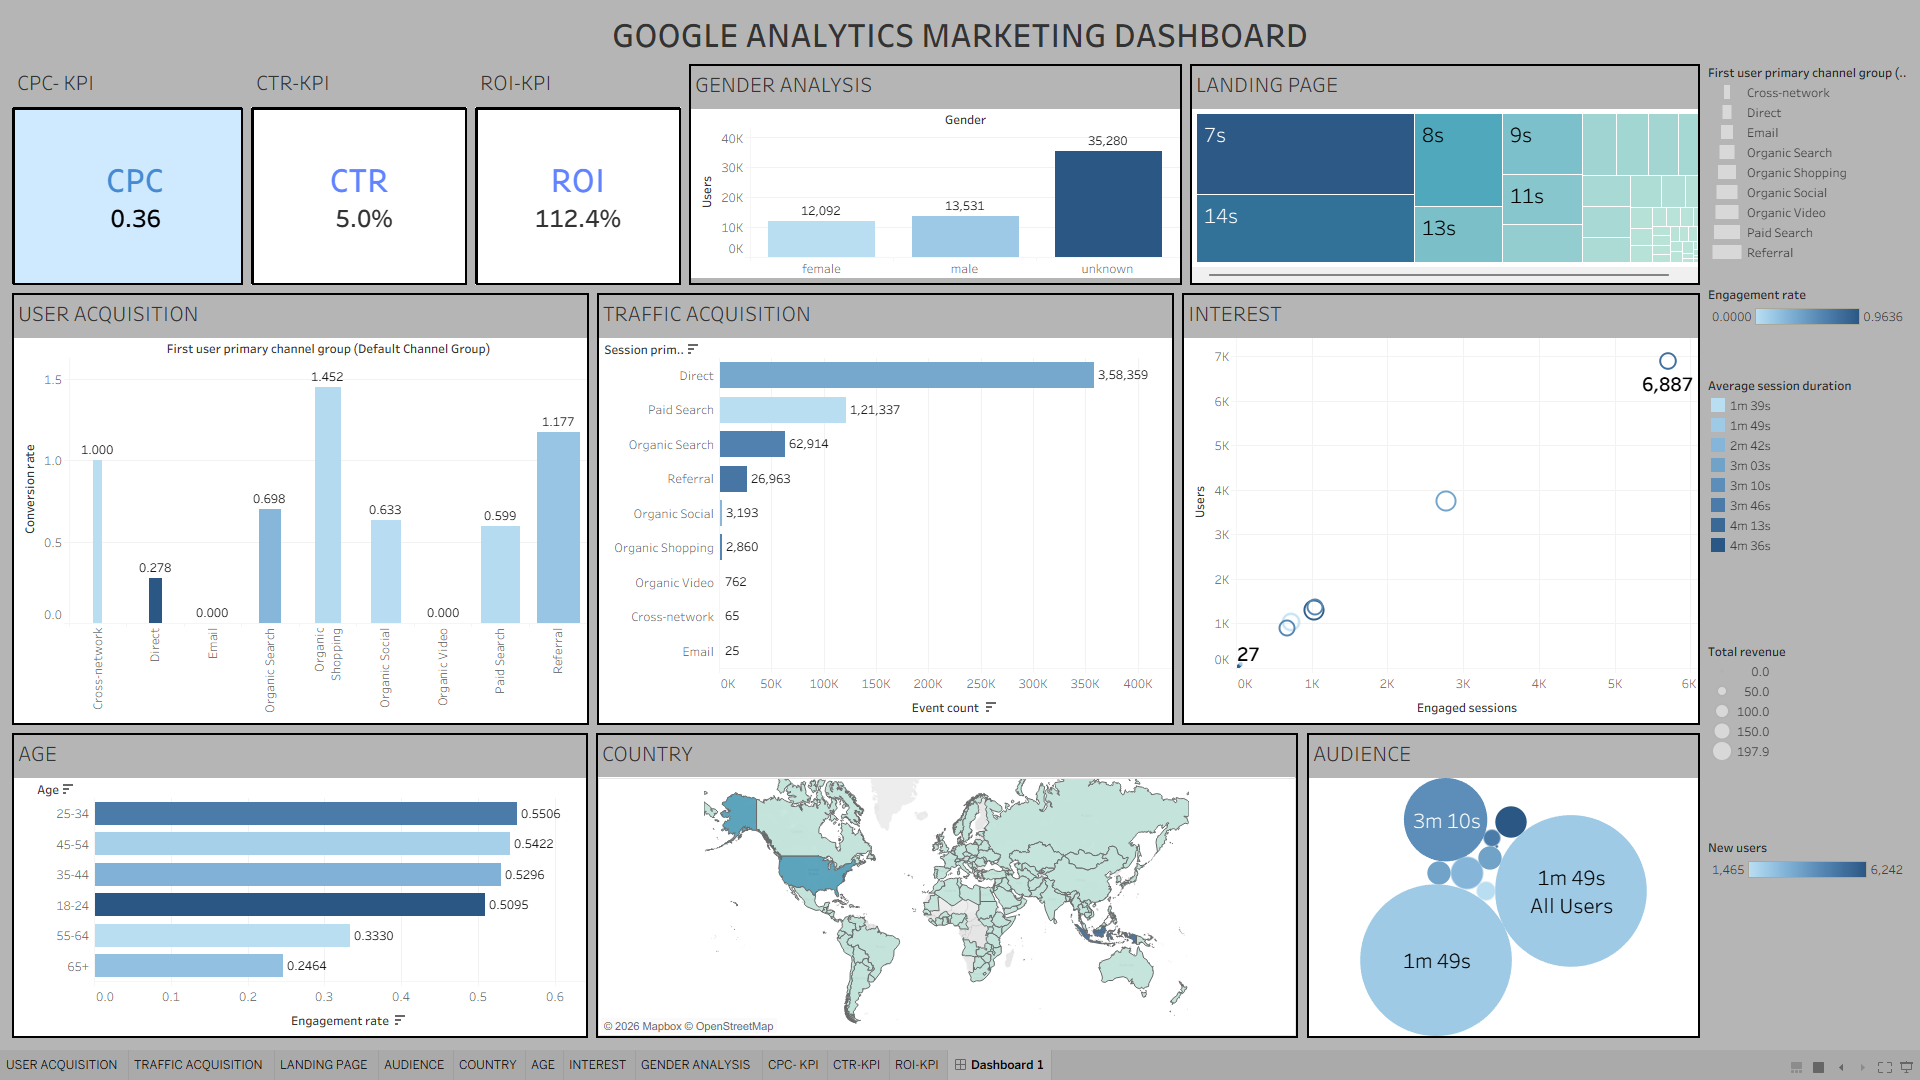

What the dashboard file says about the page in this screenshot:
{"tool":"tableau","page":{"name":"Dashboard 1","canvas":[1000,1000],"units":"permille","ordinal":0},"visuals":[{"type":"title","box":[4.7,8.9,990.6,58]},{"type":"worksheet","title":"CPC- KPI","mark":"Text","box":[4.7,67,122.6,215.4]},{"type":"worksheet","title":"CTR-KPI","mark":"Automatic","box":[127.3,67,114.9,215.4]},{"type":"worksheet","title":"ROI-KPI","mark":"Automatic","box":[242.1,67,109.5,215.4]},{"type":"worksheet","title":"GENDER ANALYSIS","mark":"Automatic","rows":["Users"],"cols":["Gender"],"box":[351.6,67,256.5,215.4]},{"type":"worksheet","title":"LANDING PAGE","mark":"Automatic","box":[608.1,67,265.5,215.4]},{"type":"legend","title":"USER ACQUISITION","param":"[federated.1l1ph9s0xlfcw712hso5w11l51xa].[none:First user primary channel group ","box":[873.6,67,121.7,247.8]},{"type":"worksheet","title":"USER ACQUISITION","mark":"Automatic","rows":["Conversion rate"],"cols":["First user primary channel group (Default Channel Group)"],"box":[4.7,282.4,299.6,414.1]},{"type":"worksheet","title":"TRAFFIC ACQUISITION","mark":"Automatic","rows":["Session primary channel group"],"cols":["Event count"],"box":[304.3,282.4,299.7,414.1]},{"type":"worksheet","title":"INTEREST","mark":"Automatic","rows":["Users"],"cols":["Engaged sessions"],"box":[604,282.4,269.6,414.1]},{"type":"legend","title":"TRAFFIC ACQUISITION","param":"[federated.10jr2610qvv3y51dalfts1set5ju].[sum:Engagement rate:qk]","box":[873.6,314.7,121.7,101.6]},{"type":"legend","title":"AUDIENCE","param":"[federated.13bj6qc0b07cm31dev6ua1gwv6fk].[none:Average session duration:nk]","box":[873.6,416.3,121.7,296.9]},{"type":"worksheet","title":"AGE","mark":"Bar","rows":["Age"],"cols":["Engagement rate"],"box":[4.7,696.4,299.3,294.6]},{"type":"worksheet","title":"COUNTRY","mark":"Automatic","box":[304,696.4,363.9,294.6]},{"type":"worksheet","title":"AUDIENCE","mark":"Circle","box":[668,696.4,205.7,294.6]},{"type":"legend","title":"INTEREST","param":"[federated.0yxvsgz1cak03x1g6h4411quu2l9].[sum:Total revenue:qk]","box":[873.6,713.2,121.7,218.8]},{"type":"legend","title":"AGE","param":"[federated.0zmql4c0jlnr621155ou00gjb01w].[sum:New users:qk]","box":[873.6,931.9,121.7,59.1]}]}

Visuals, with their boxes on the dashboard's canvas, which has no fixed pixel size, in thousandths of its width and height (x1, y1, x2, y2). These are canvas units, not pixel positions in the 1920x1080 screenshot, which may show the page scaled, cropped or inside an application window:
title: bbox=(5, 9, 995, 67)
"CPC- KPI" worksheet (Text marks): bbox=(5, 67, 127, 282)
"CTR-KPI" worksheet: bbox=(127, 67, 242, 282)
"ROI-KPI" worksheet: bbox=(242, 67, 352, 282)
"GENDER ANALYSIS" worksheet: bbox=(352, 67, 608, 282)
"LANDING PAGE" worksheet: bbox=(608, 67, 874, 282)
"USER ACQUISITION" legend: bbox=(874, 67, 995, 315)
"USER ACQUISITION" worksheet: bbox=(5, 282, 304, 696)
"TRAFFIC ACQUISITION" worksheet: bbox=(304, 282, 604, 696)
"INTEREST" worksheet: bbox=(604, 282, 874, 696)
"TRAFFIC ACQUISITION" legend: bbox=(874, 315, 995, 416)
"AUDIENCE" legend: bbox=(874, 416, 995, 713)
"AGE" worksheet (Bar marks): bbox=(5, 696, 304, 991)
"COUNTRY" worksheet: bbox=(304, 696, 668, 991)
"AUDIENCE" worksheet (Circle marks): bbox=(668, 696, 874, 991)
"INTEREST" legend: bbox=(874, 713, 995, 932)
"AGE" legend: bbox=(874, 932, 995, 991)
